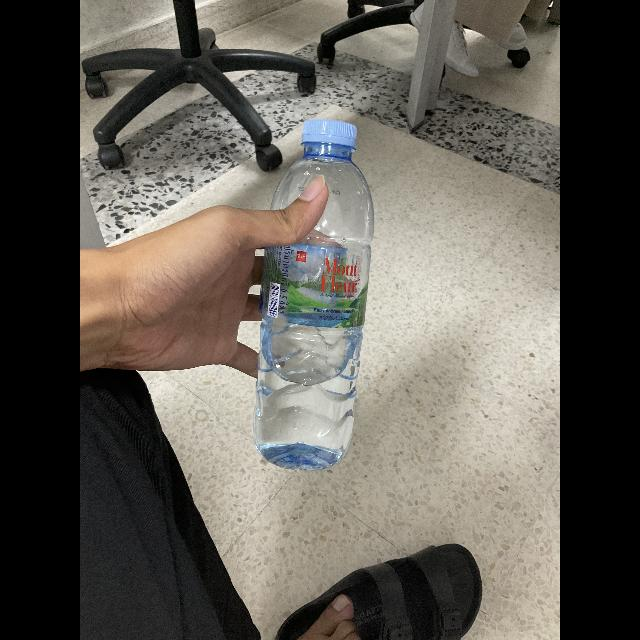plastic_bottle: (245, 109, 375, 488)
